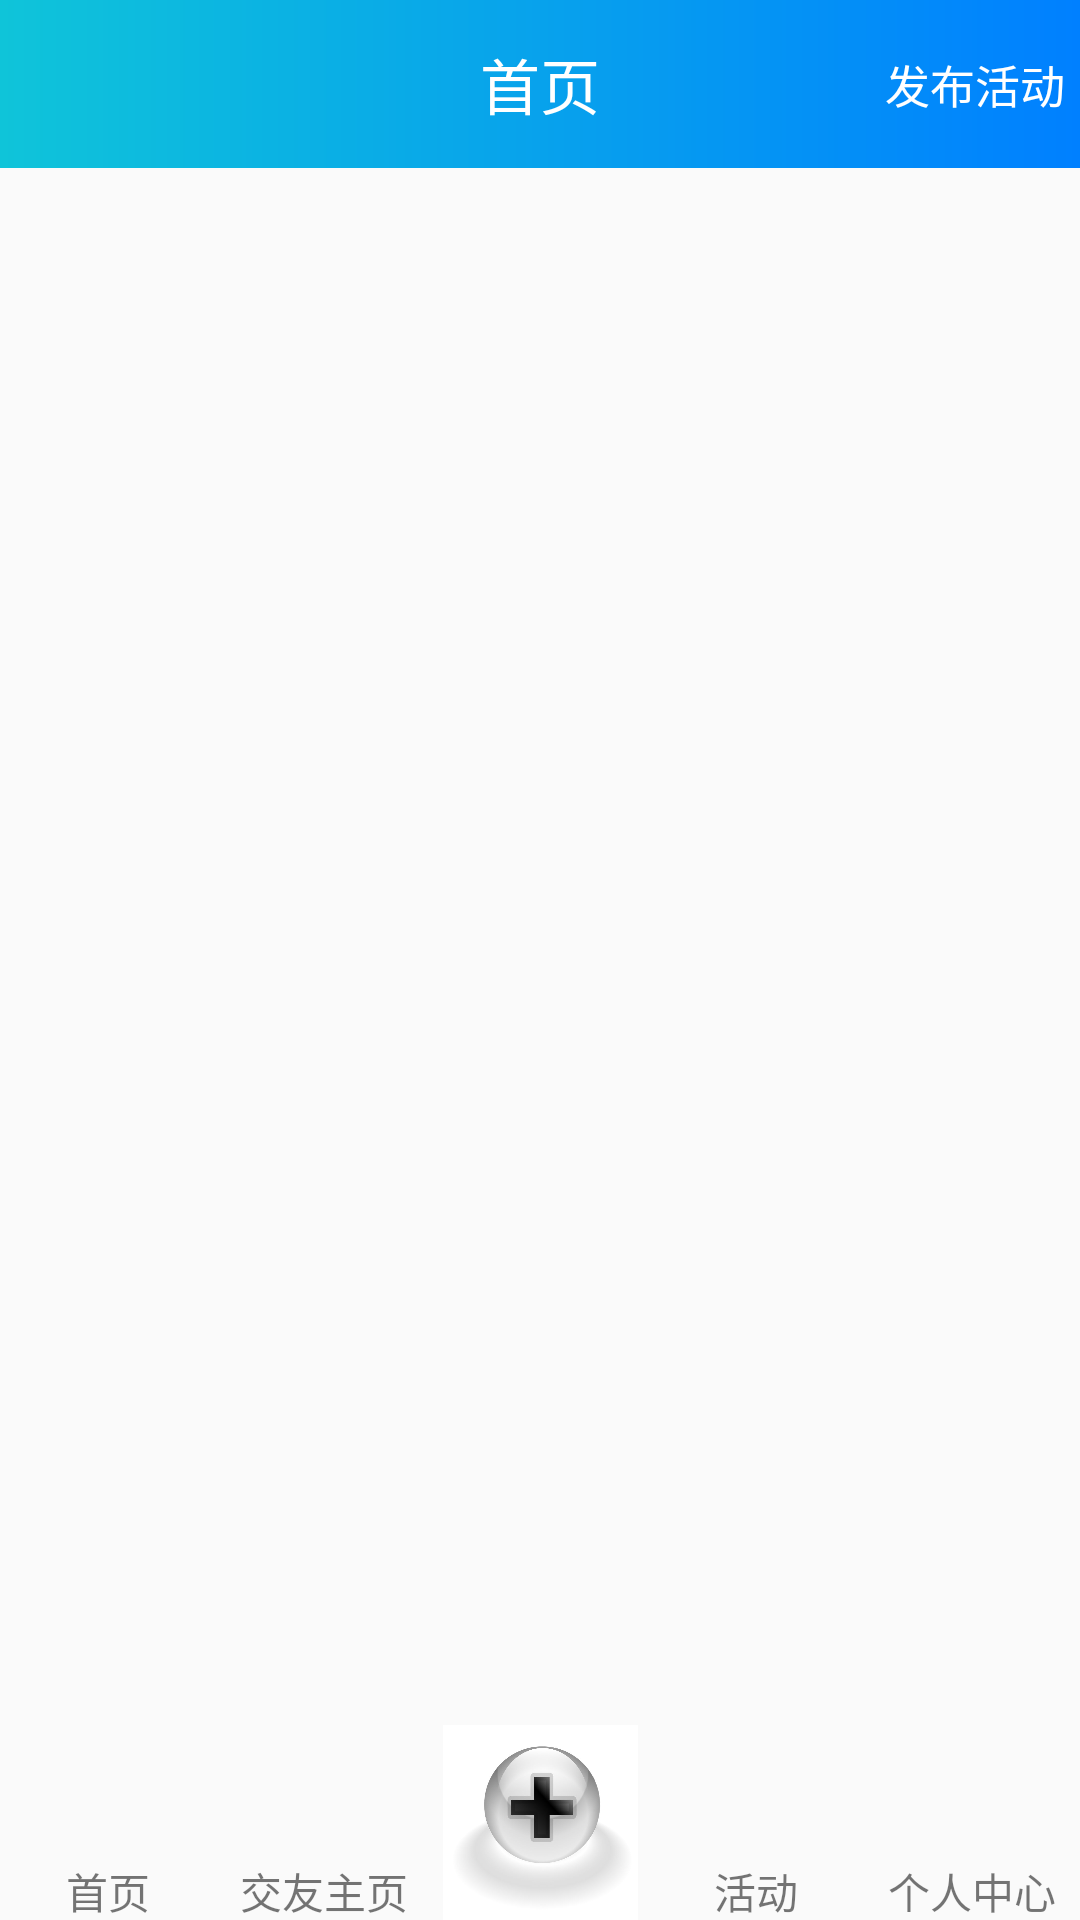

Point at icon controls on the screen. Image size 1080w x 1920h, points as (x,y).
plus: (542,1819)
